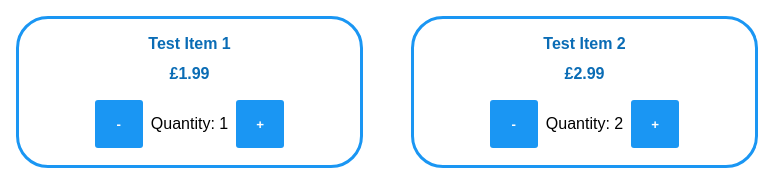
Test: Basket › Removes items when the quantity reaches zero
The width and height of the screenshot is (775, 185).
Click the button "-" below "Test Item 1": (119, 124) [95,100,143,148]
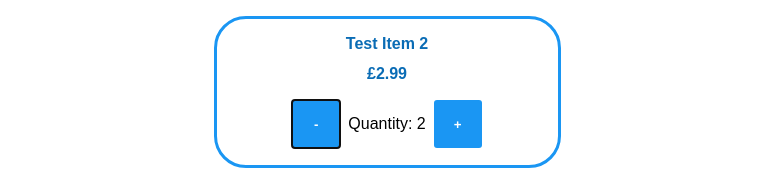
Expected: the number of list items is 1, [214,16,560,168]
